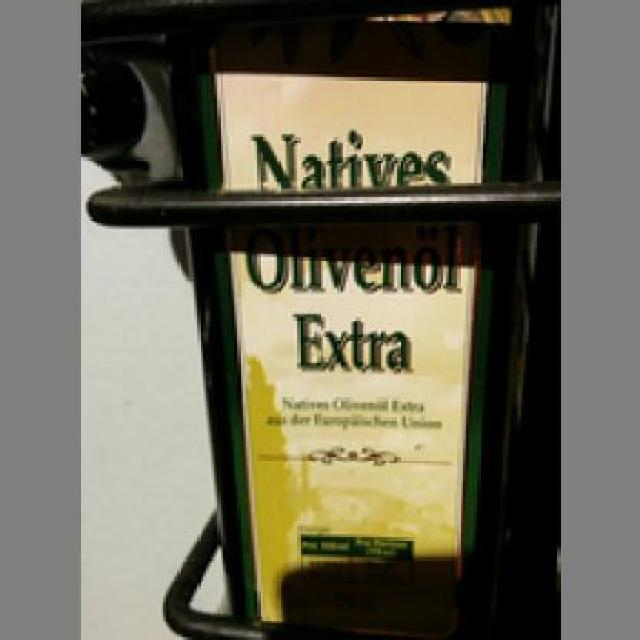Oil: (166, 0, 523, 626)
